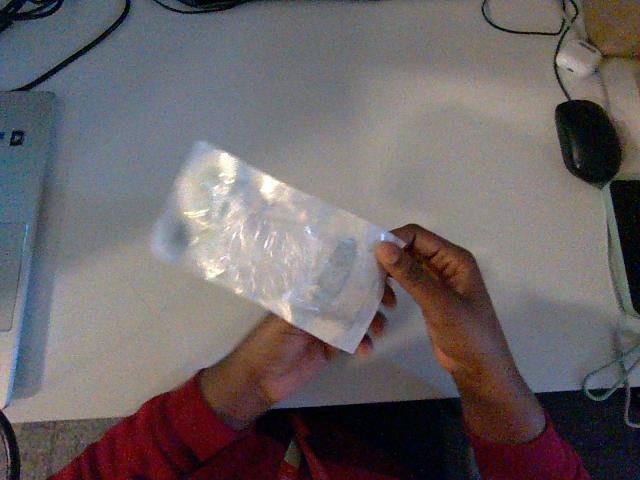gallipot: (153, 142, 400, 352)
